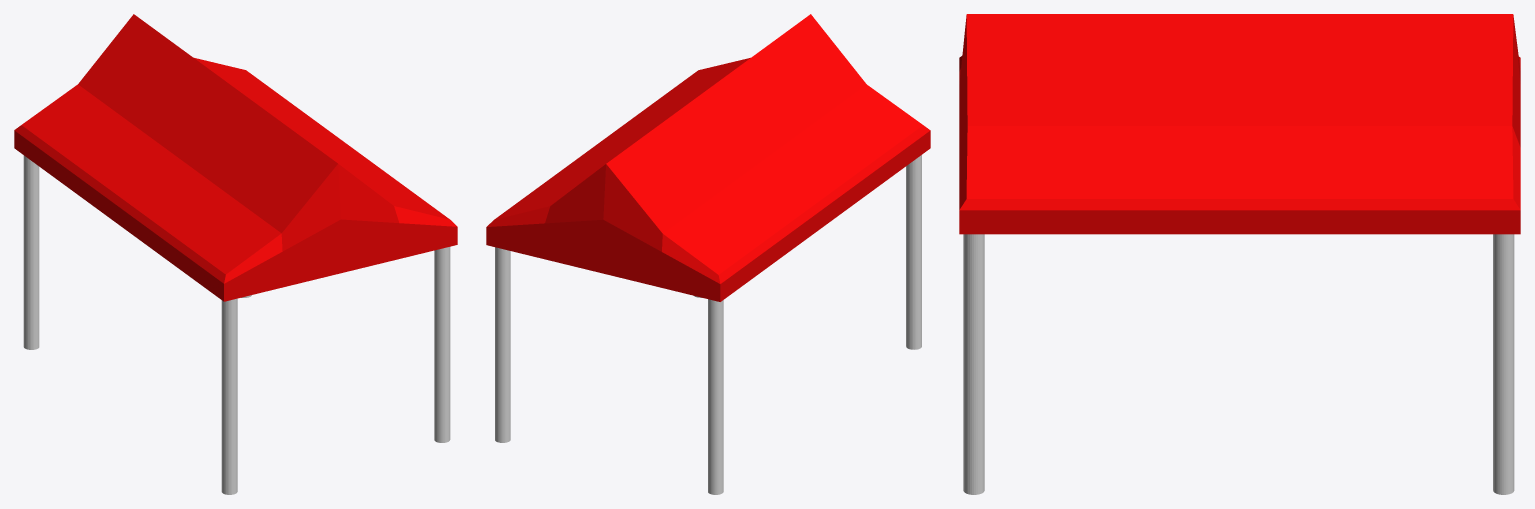
File: Tent.fbx
The picture shows the model from 3 angles, left to right: view 1: azimuth 30°, elevation 25°; view 2: azimuth 150°, elevation 25°; view 3: azimuth 270°, elevation 25°; orthographic projection. The views are drawn at different scales.
Parts seen in each view (by area): view 1: Cylinder.002; view 2: Cylinder.002; view 3: Cylinder.002.
Part boxes in pixels (<box>): Cylinder.002: <box>14,14,457,494</box>; Cylinder.002: <box>486,14,930,494</box>; Cylinder.002: <box>959,14,1520,494</box>.
Size of the model in its own units: 681 by 847 by 1060.
